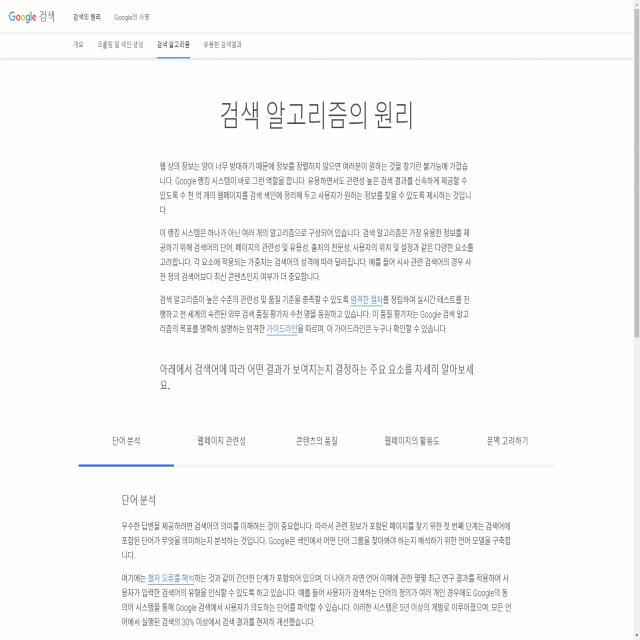menu-bar: (65, 31, 248, 58)
menu-panel: (74, 421, 562, 468)
